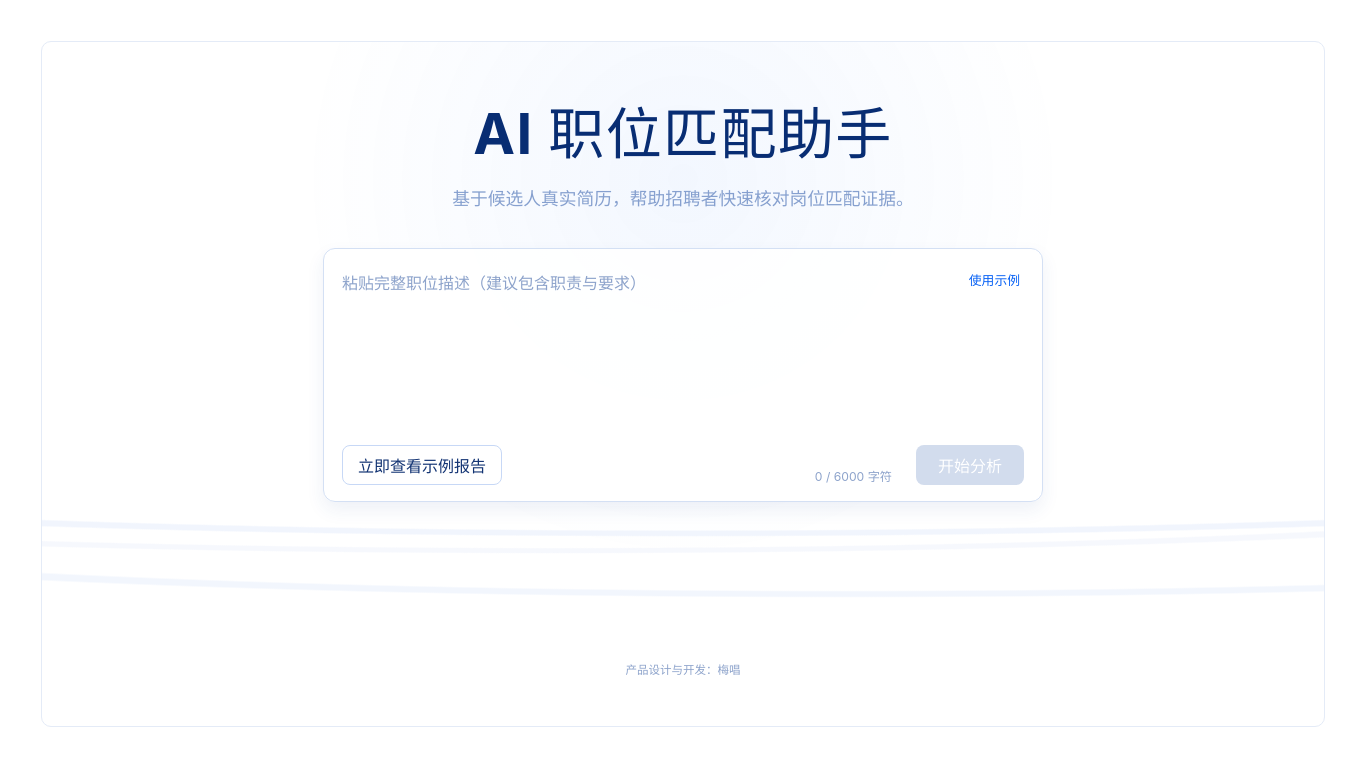
it: Goal 4 recruiter workspace › starts on a standalone entrance with the approved JD composer behavior
The width and height of the screenshot is (1366, 768).
Expected: the heading "AI 职位匹配助手" is shown, [473,103,893,166]
Expected: the text "产品设计与开发：梅唱" is shown, [625,663,741,677]
Type "只写了很短的职位要求" into the text box labelled "职位描述". click: (683, 353)
box: [342,266,1024,441]
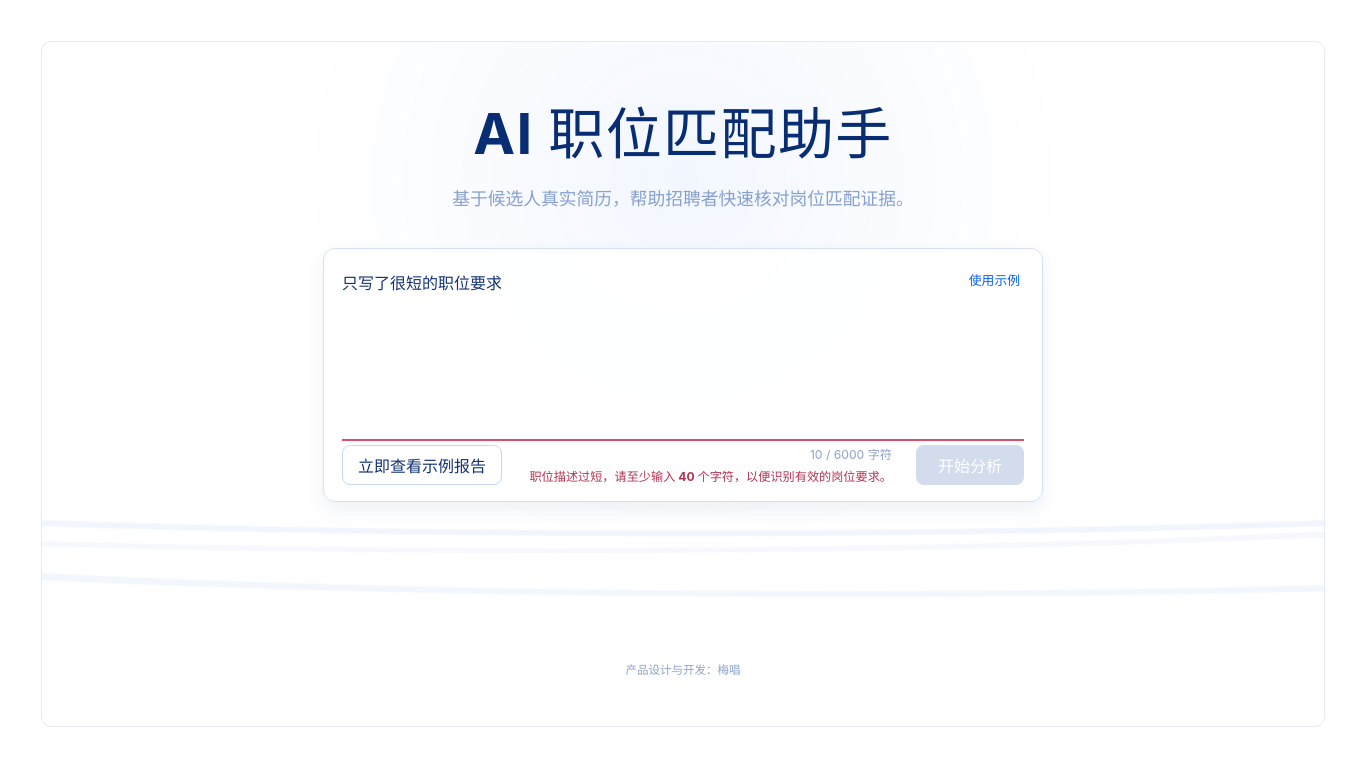
Expected: the button "开始分析" is disabled, [916,445,1024,485]
Expected: the message reads "职位描述过短，请至少输入 40 个字符，以便识别有效的岗位要求。", [529,469,892,484]
Click the button "使用示例". click: (994, 280)
box: [965,266,1024,293]
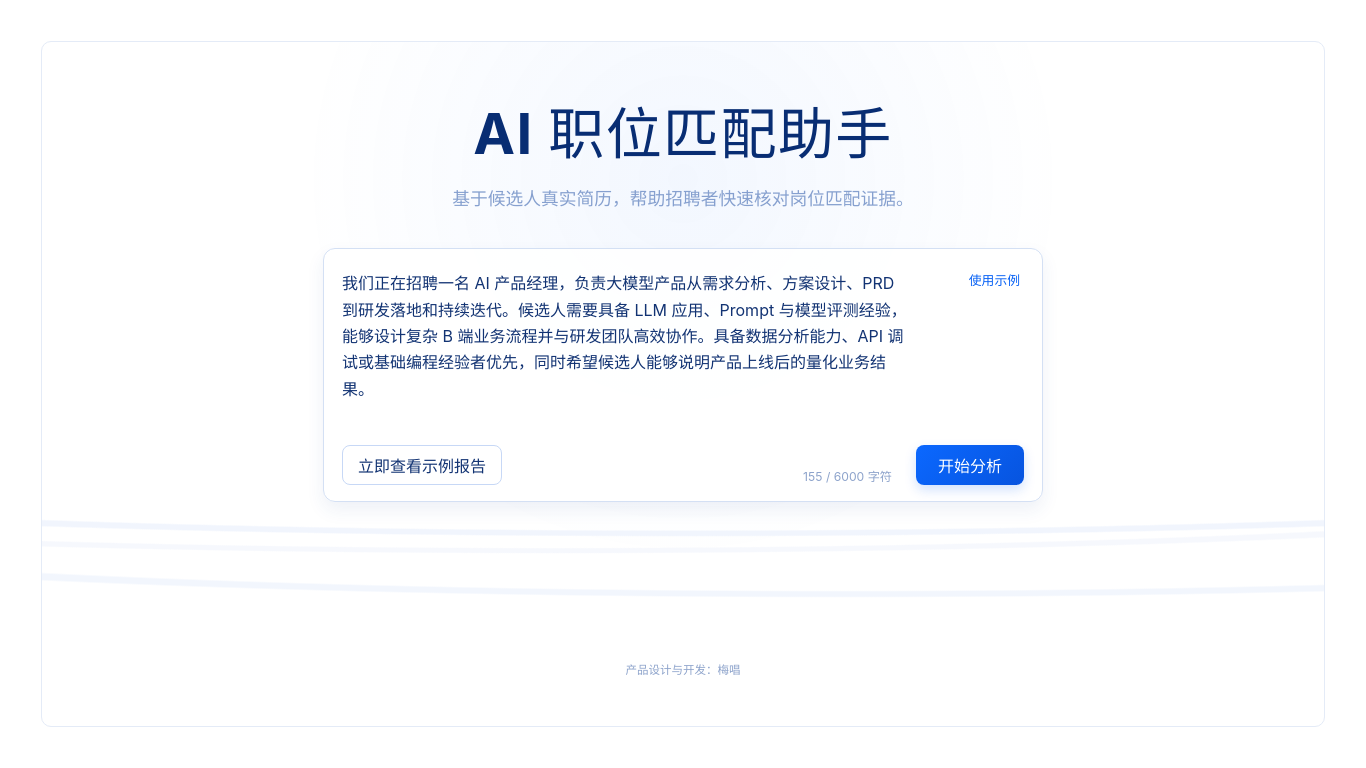
Expected: the text box named "职位描述" holds "我们正在招聘一名 AI 产品经理，负责大模型产品从需求分析、方案设计、PRD 到研发落地和持续迭代。候选人需要具备 LLM 应用、Prompt 与模型评测经验，能够设计复杂 B 端业务流程并与研发团队高效协作。具备数据分析能力、API 调试或基础编程经验者优先，同时希望候选人能够说明产品上线后的量化业务结果。", [342,266,1024,441]
Expected: the button "开始分析" is enabled, [916,445,1024,485]
